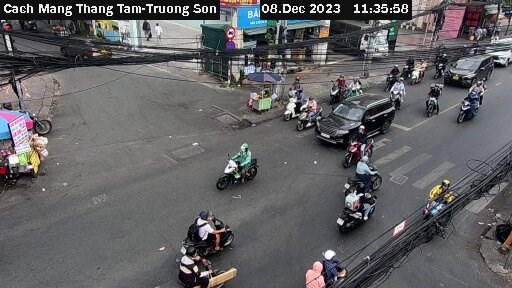car: (318, 93, 398, 146), (443, 51, 496, 85), (487, 36, 512, 67)
motorbike: (171, 243, 229, 286), (185, 210, 246, 246), (212, 143, 262, 186), (298, 248, 351, 288), (417, 178, 460, 222), (350, 158, 395, 196), (342, 190, 383, 230), (339, 130, 385, 164), (423, 90, 455, 128), (454, 91, 480, 126), (288, 97, 319, 126), (385, 77, 414, 106), (279, 86, 303, 119), (406, 62, 437, 86), (344, 76, 372, 101), (324, 76, 351, 99)
